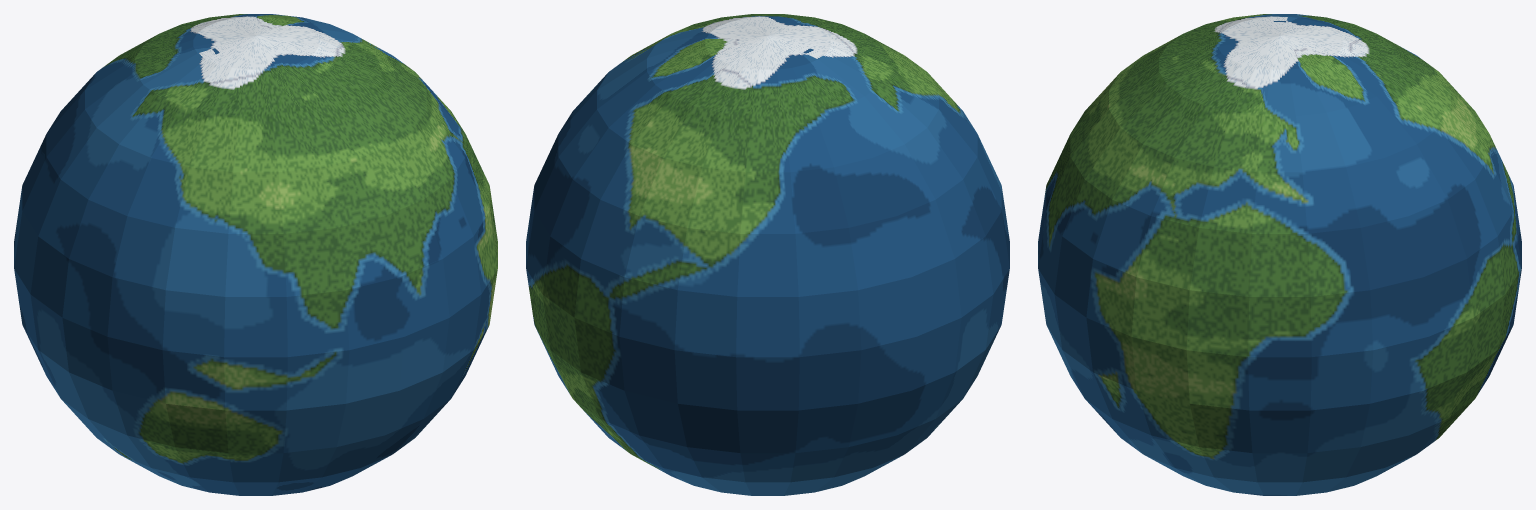
The model's file is earth.obj.
The picture shows the model from 3 angles, left to right: view 1: azimuth 30°, elevation 25°; view 2: azimuth 150°, elevation 25°; view 3: azimuth 270°, elevation 25°; orthographic projection.
Visible parts, largest first — view 1: earth_surface; view 2: earth_surface; view 3: earth_surface.
Boxes of the visible parts, bbox=[...] form: earth_surface: bbox=[14, 14, 497, 495]; earth_surface: bbox=[526, 14, 1009, 495]; earth_surface: bbox=[1038, 14, 1521, 495].
Size of the model in its own units: 1 by 1 by 1.
Materials: 1 (1 with a texture image).
